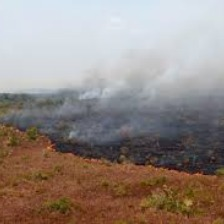incendio: (68, 80, 141, 123), (78, 120, 131, 161)
